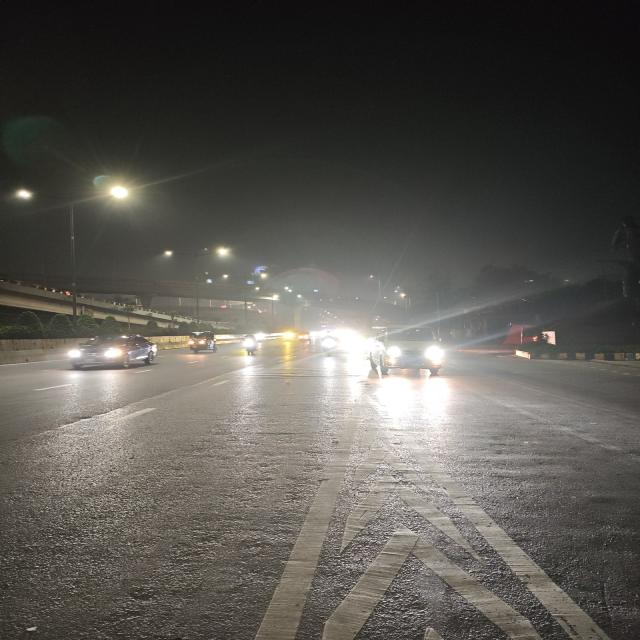car: (363, 326, 457, 382), (59, 332, 162, 376)
cng: (184, 330, 221, 356)
motorcycle: (235, 334, 262, 358)
